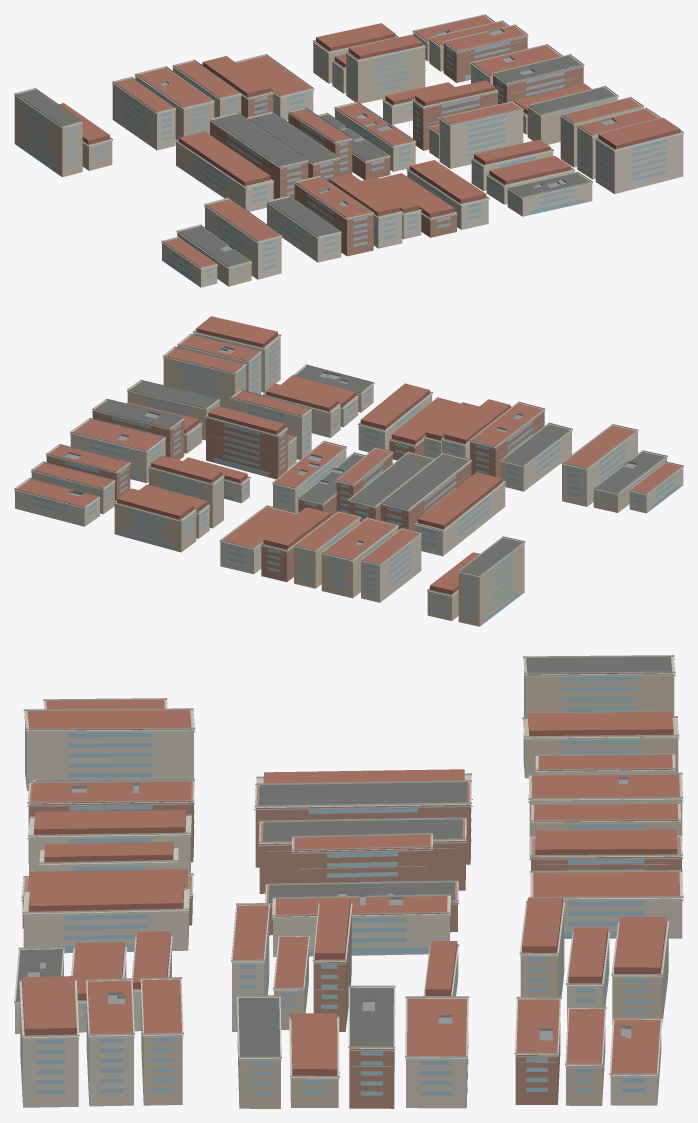
The model's file is tile-m002-p001.glb.
3 renders of one model, top to bottom at view 1: azimuth 30°, elevation 25°; view 2: azimuth 150°, elevation 25°; view 3: azimuth 270°, elevation 25°, orthographic. The views are drawn at different scales.
Visible parts, largest first — view 1: building-0407-mesh-183, building-0366-mesh-166, building-0209-mesh-16, building-0363-mesh-150, building-0293-mesh-91, building-0287-mesh-59, building-0287-mesh-62, building-0205-mesh-11, building-0288-mesh-67, building-0282-mesh-32, building-0288-mesh-64, building-0281-mesh-27 (+76 smaller); view 2: building-0361-mesh-140, building-0209-mesh-16, building-0364-mesh-155, building-0293-mesh-91, building-0405-mesh-172, building-0287-mesh-62, building-0287-mesh-59, building-0205-mesh-11, building-0288-mesh-67, building-0289-mesh-72, building-0281-mesh-27, building-0286-mesh-57 (+65 smaller); view 3: building-0205-mesh-11, building-0209-mesh-16, building-0288-mesh-67, building-0286-mesh-54, building-0286-mesh-57, building-0290-mesh-74, building-0297-mesh-116, building-0407-mesh-183, building-0292-mesh-85, building-0283-mesh-41, building-0296-mesh-110, building-0210-mesh-24 (+81 smaller).
Boxes of the visible parts, bbox=[...] form: building-0407-mesh-183: bbox=[595, 132, 683, 193]; building-0366-mesh-166: bbox=[346, 47, 425, 103]; building-0209-mesh-16: bbox=[14, 95, 82, 177]; building-0363-mesh-150: bbox=[439, 103, 523, 168]; building-0293-mesh-91: bbox=[112, 83, 175, 150]; building-0287-mesh-59: bbox=[176, 140, 273, 211]; building-0287-mesh-62: bbox=[178, 131, 270, 186]; building-0205-mesh-11: bbox=[205, 199, 281, 279]; building-0288-mesh-67: bbox=[212, 114, 306, 166]; building-0282-mesh-32: bbox=[294, 178, 373, 256]; building-0288-mesh-64: bbox=[210, 113, 308, 198]; building-0281-mesh-27: bbox=[267, 203, 341, 262]; building-0361-mesh-140: bbox=[206, 415, 287, 479]; building-0209-mesh-16: bbox=[458, 543, 524, 626]; building-0364-mesh-155: bbox=[114, 503, 196, 552]; building-0293-mesh-91: bbox=[361, 534, 421, 602]; building-0405-mesh-172: bbox=[163, 349, 245, 409]; building-0287-mesh-62: bbox=[417, 472, 502, 529]; building-0287-mesh-59: bbox=[415, 481, 505, 556]; building-0205-mesh-11: bbox=[562, 429, 637, 506]; building-0288-mesh-67: bbox=[382, 454, 468, 508]; building-0289-mesh-72: bbox=[350, 453, 432, 505]; building-0281-mesh-27: bbox=[501, 431, 571, 491]; building-0286-mesh-57: bbox=[360, 383, 429, 429]; building-0205-mesh-11: bbox=[25, 710, 193, 790]; building-0209-mesh-16: bbox=[524, 657, 674, 717]; building-0288-mesh-67: bbox=[259, 782, 467, 805]; building-0286-mesh-54: bbox=[23, 890, 188, 953]; building-0286-mesh-57: bbox=[28, 883, 184, 911]; building-0290-mesh-74: bbox=[292, 835, 432, 883]; building-0297-mesh-116: bbox=[533, 872, 679, 896]; building-0407-mesh-183: bbox=[20, 982, 78, 1107]; building-0292-mesh-85: bbox=[273, 896, 449, 957]; building-0283-mesh-41: bbox=[34, 810, 186, 834]; building-0296-mesh-110: bbox=[535, 830, 677, 854]; building-0210-mesh-24: bbox=[528, 712, 673, 735].
Size of the model in its own units: 256 by 25.75 by 191.
